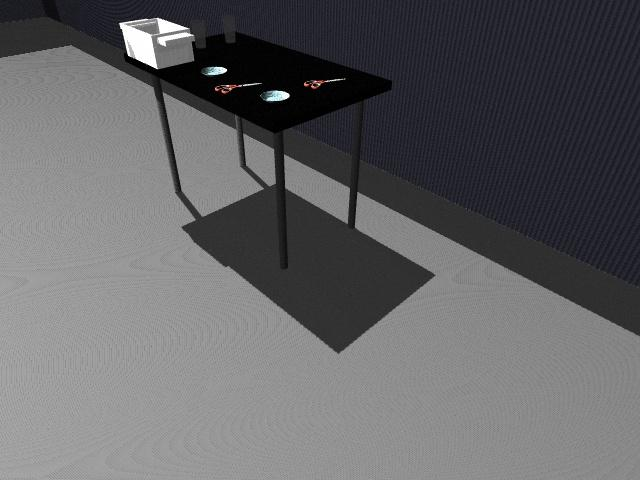cup: (190, 18, 207, 49), (222, 14, 237, 43)
plate: (260, 90, 290, 102), (200, 66, 228, 76)
scissors: (216, 82, 263, 95), (305, 78, 345, 89)
